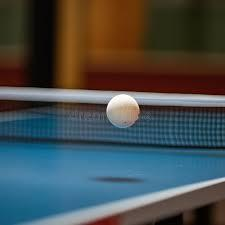ball_pingpong: (106, 94, 140, 129)
